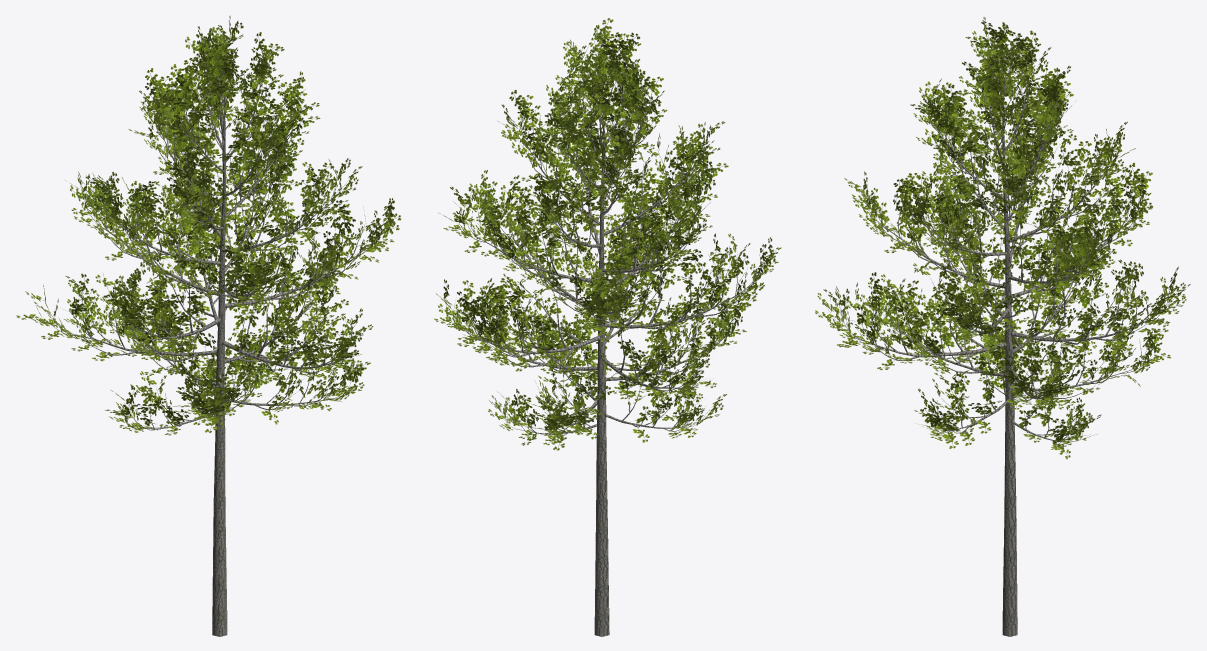
The model's file is tree_aspen.glb.
3 renders of one model, left to right at view 1: azimuth 30°, elevation 25°; view 2: azimuth 150°, elevation 25°; view 3: azimuth 270°, elevation 25°, orthographic. The views are drawn at different scales.
Visible parts, largest first — view 1: leaves, tree; view 2: leaves, tree; view 3: leaves, tree.
Boxes of the visible parts, x1=… form: leaves: x1=16, y1=15, x2=401, y2=435; tree: x1=40, y1=34, x2=386, y2=636; leaves: x1=434, y1=18, x2=781, y2=450; tree: x1=449, y1=45, x2=769, y2=636; leaves: x1=815, y1=17, x2=1190, y2=459; tree: x1=828, y1=45, x2=1173, y2=636.
Bounding box in the file's own units: 9.21 × 16.91 × 9.39.
2 materials, 2 textured.
